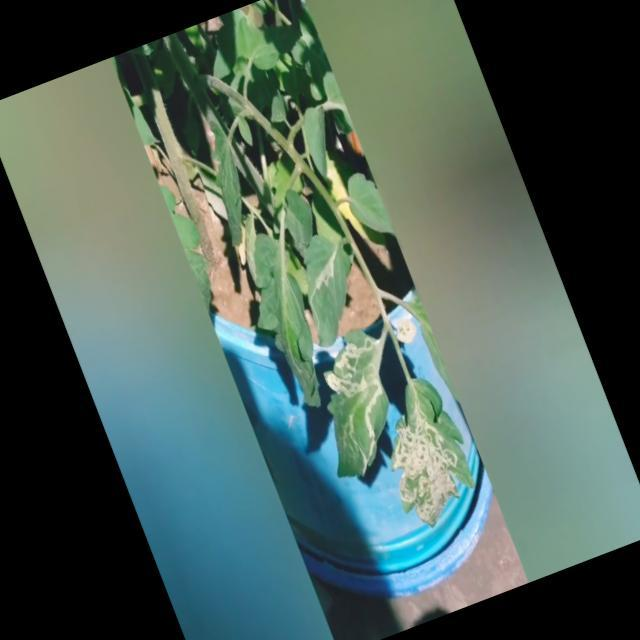Tomato healthy leaf: (338, 168, 395, 246), (295, 102, 347, 180)
Tomato target spot leaf: (290, 322, 424, 488), (362, 368, 489, 534), (280, 227, 378, 351)
